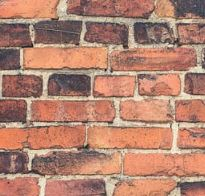brick: (88, 125, 176, 151), (2, 124, 88, 150), (25, 99, 114, 123), (33, 152, 121, 175), (125, 152, 205, 176), (110, 48, 197, 70), (23, 49, 108, 71), (33, 21, 80, 45), (119, 100, 171, 121), (67, 1, 150, 14), (86, 21, 129, 46), (48, 71, 91, 96), (91, 73, 136, 96), (137, 72, 181, 95), (46, 179, 105, 196), (134, 21, 174, 45), (1, 74, 42, 97), (1, 1, 57, 17), (116, 182, 176, 196), (2, 177, 43, 196), (172, 98, 205, 121), (1, 21, 31, 46), (1, 98, 28, 123), (1, 152, 31, 173), (161, 1, 205, 15), (177, 23, 205, 44), (179, 127, 205, 147), (183, 71, 205, 94), (1, 49, 20, 70)
